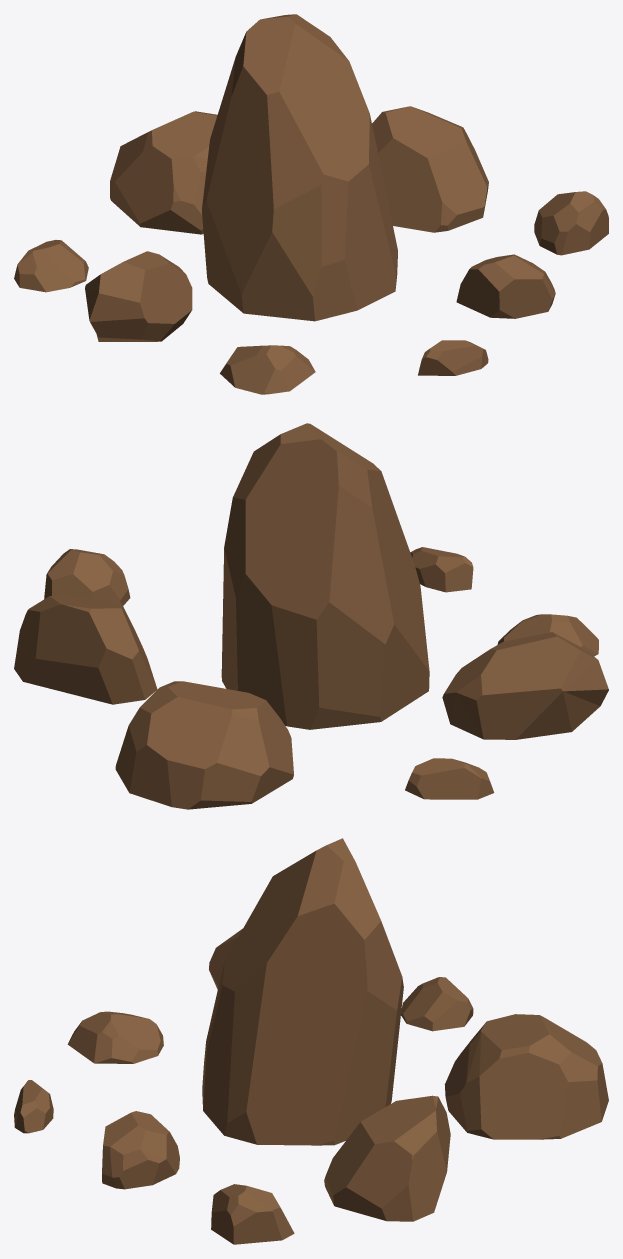
The model's file is stones.fbx.
The picture shows the model from 3 angles, top to bottom: view 1: azimuth 30°, elevation 25°; view 2: azimuth 150°, elevation 25°; view 3: azimuth 270°, elevation 25°; orthographic projection. The views are drawn at different scales.
Visible parts, largest first — view 1: Cube.014; view 2: Cube.014; view 3: Cube.014.
Boxes of the visible parts, left/top/right/bottom form: Cube.014: left=14, top=14, right=608, bottom=394; Cube.014: left=14, top=423, right=608, bottom=809; Cube.014: left=14, top=838, right=608, bottom=1244.
Bounding box in the file's own units: 266 × 125 × 257.
